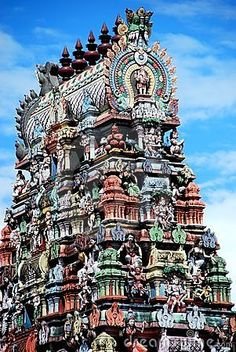Hindu Temple: (4, 24, 227, 336)
